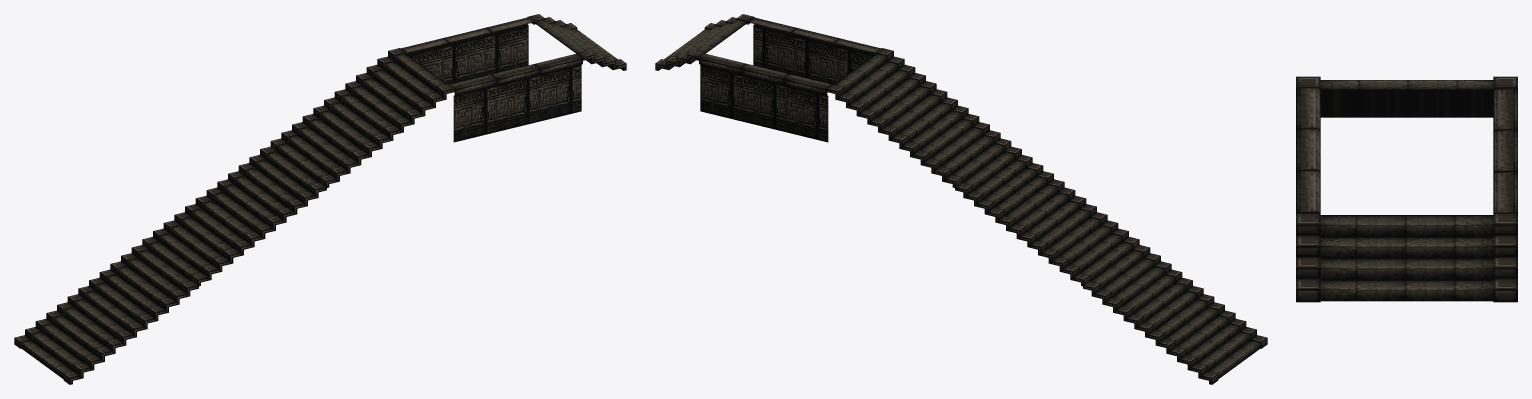
The model's file is EnvMdrMD_Atl_A_Stairs.FBX.
The picture shows the model from 3 angles, left to right: view 1: azimuth 30°, elevation 25°; view 2: azimuth 150°, elevation 25°; view 3: azimuth 270°, elevation 25°; orthographic projection. The views are drawn at different scales.
Parts seen in each view (by area): view 1: EnvMdrMD_Atl_A_Stairs; view 2: EnvMdrMD_Atl_A_Stairs; view 3: EnvMdrMD_Atl_A_Stairs.
Boxes of the visible parts, <box> form: EnvMdrMD_Atl_A_Stairs: <box>14,14,626,384</box>; EnvMdrMD_Atl_A_Stairs: <box>655,14,1267,384</box>; EnvMdrMD_Atl_A_Stairs: <box>1296,76,1517,302</box>.
Size of the model in its own units: 2608 by 905 by 450.
1 material, 1 textured.
